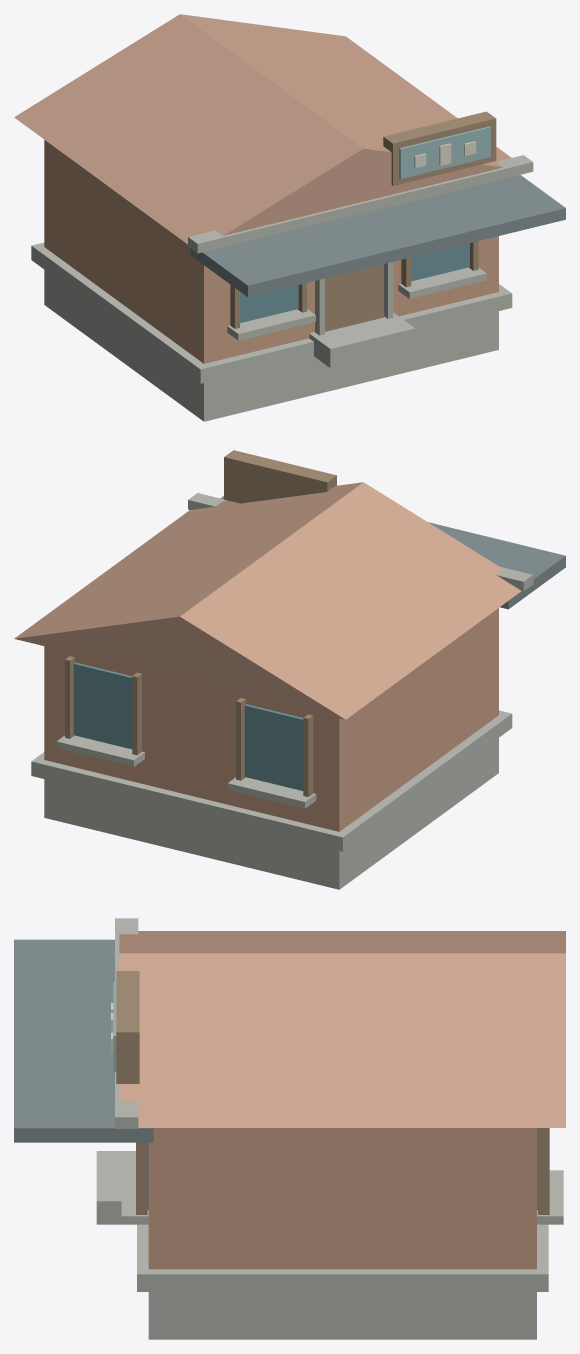
Rendered from shop-0.glb.
3 views of the same model, one above another, from view 1: azimuth 30°, elevation 25°; view 2: azimuth 150°, elevation 25°; view 3: azimuth 270°, elevation 25° (orthographic). The views are drawn at different scales.
Bounding box in the file's own units: 3.64 × 2.55 × 4.26.
